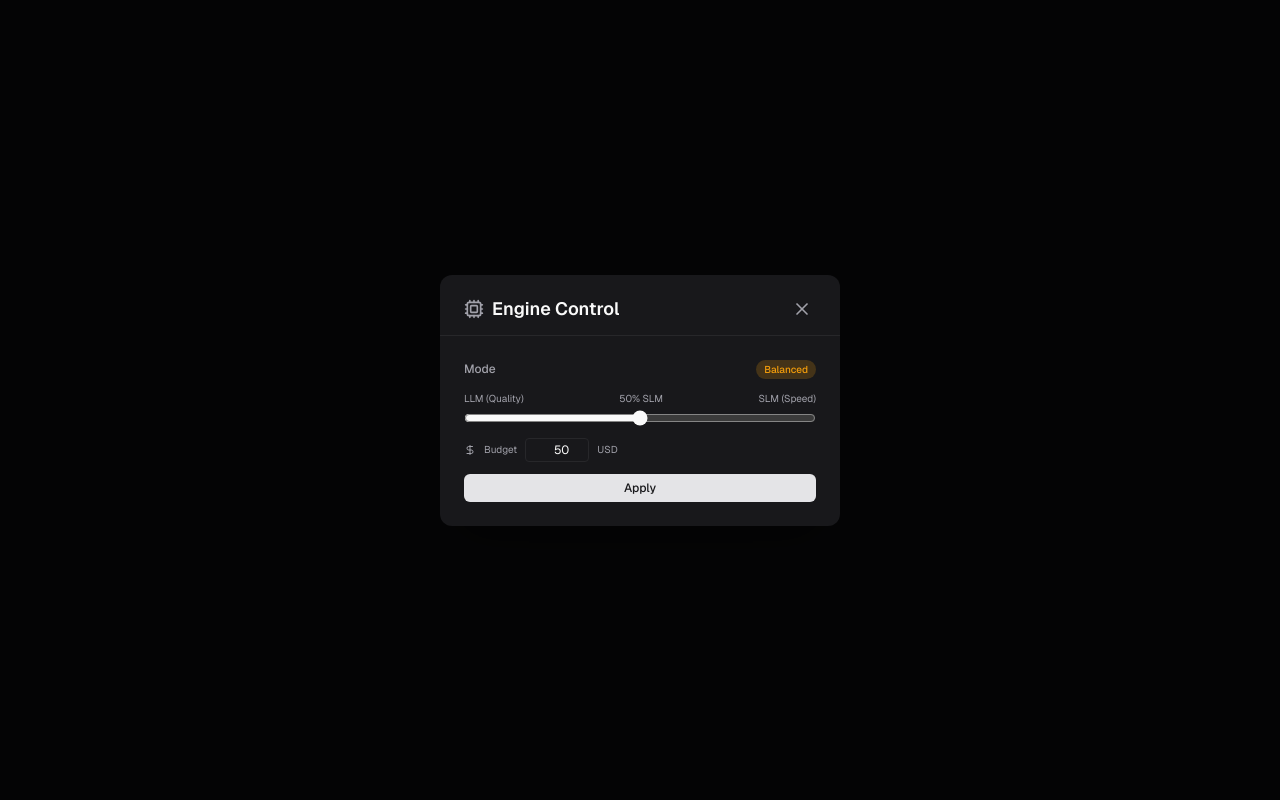
it: EngineControlPanel › budget input › clamps budget to non-negative
Replace the text in the number field with "-10": x=557, y=450 [525,438,589,462]
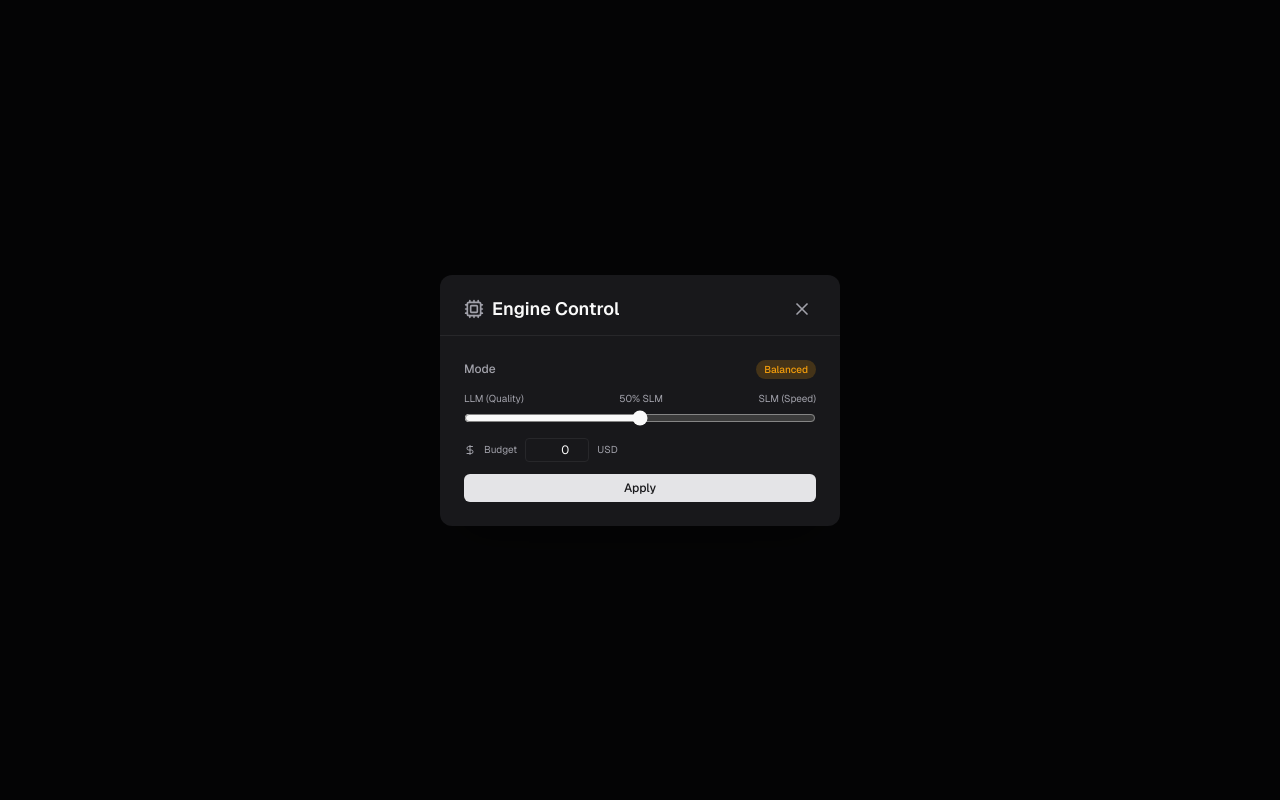
Expected: the number field holds "0", [525,438,589,462]
